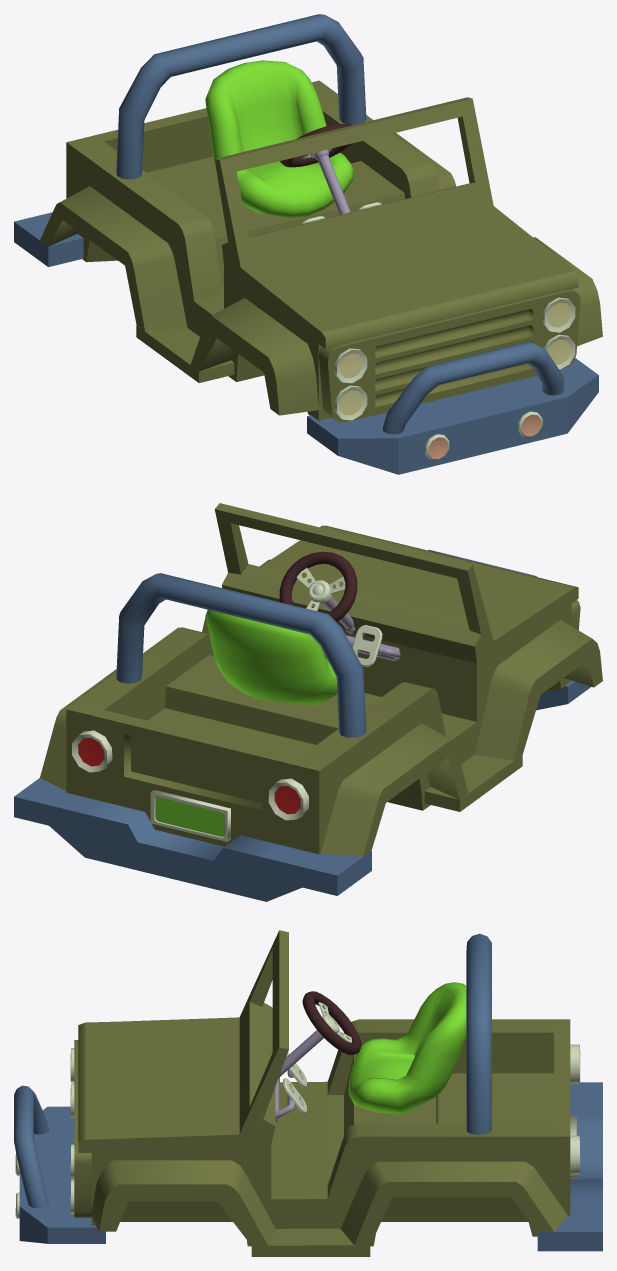
The model's file is 4x4_Body.fbx.
3 views of the same model, one above another, from view 1: azimuth 30°, elevation 25°; view 2: azimuth 150°, elevation 25°; view 3: azimuth 270°, elevation 25° (orthographic). The views are drawn at different scales.
Parts seen in each view (by area): view 1: 4x4, 4x4_Headlights, 4x4_FogLights; view 2: 4x4, 4x4_Taillights; view 3: 4x4.
Boxes of the visible parts, x1,y1,x2,y2 form: 4x4: (14, 14, 602, 474); 4x4_Headlights: (340, 302, 570, 415); 4x4_FogLights: (428, 414, 541, 459); 4x4: (14, 503, 602, 901); 4x4_Taillights: (78, 737, 300, 814); 4x4: (14, 930, 602, 1256).
Bounding box in the file's own units: 181 × 129 × 301.
